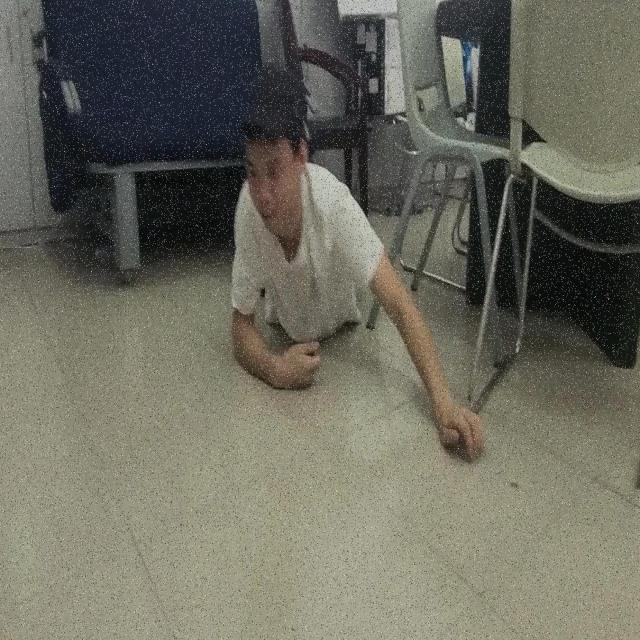fall: (226, 57, 487, 462)
